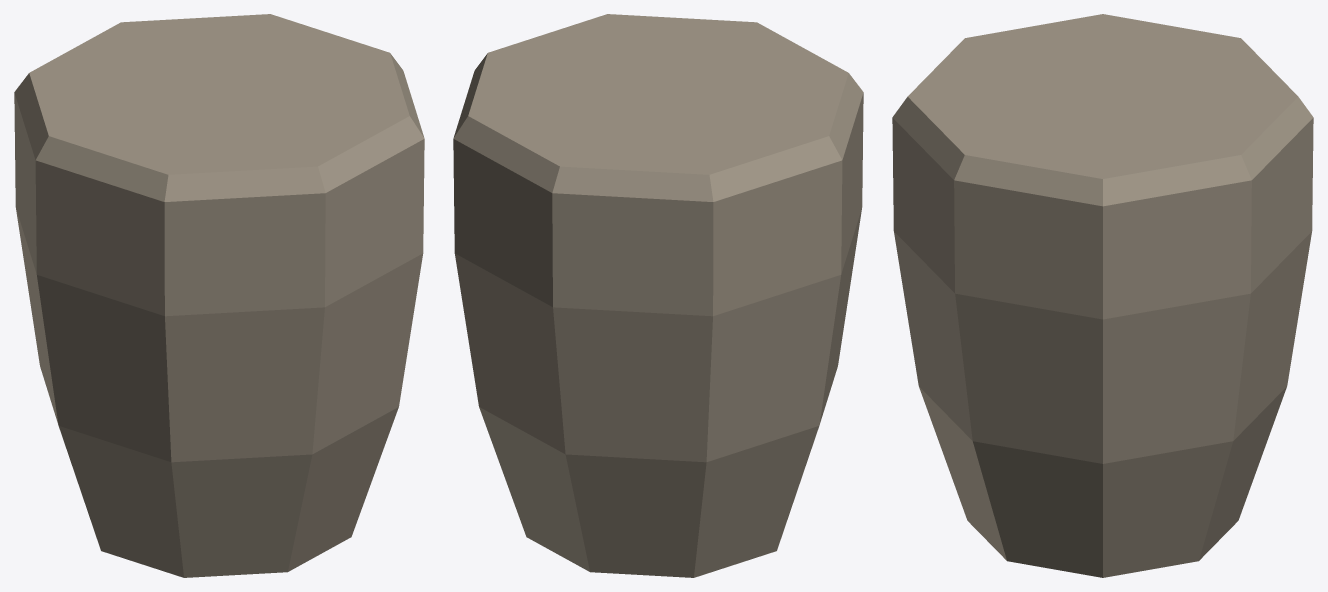
The model's file is Cork.fbx.
3 views of the same model, side by side, from view 1: azimuth 30°, elevation 25°; view 2: azimuth 150°, elevation 25°; view 3: azimuth 270°, elevation 25° (orthographic).
Visible parts, largest first — view 1: Coark; view 2: Coark; view 3: Coark.
Boxes of the visible parts, x1,y1,x2,y2 form: Coark: (14, 14, 424, 577); Coark: (453, 14, 863, 577); Coark: (892, 14, 1313, 577).
Size of the model in its own units: 1.38 by 1.54 by 1.38.
